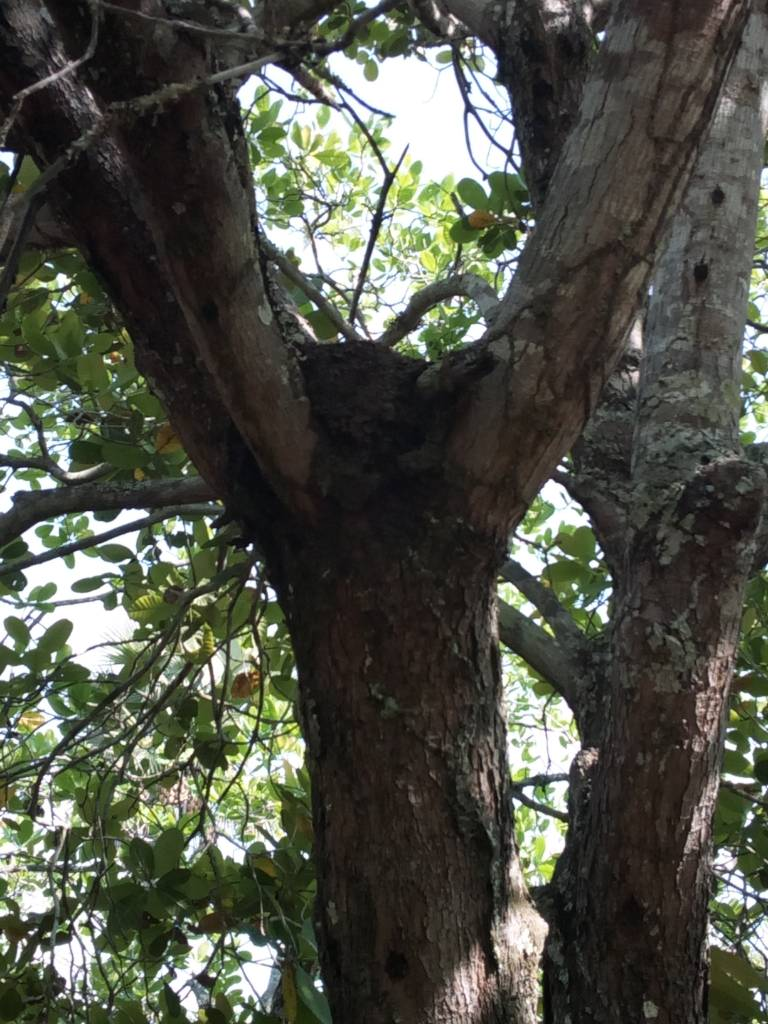Termites: (302, 596, 516, 971), (296, 330, 463, 552)
